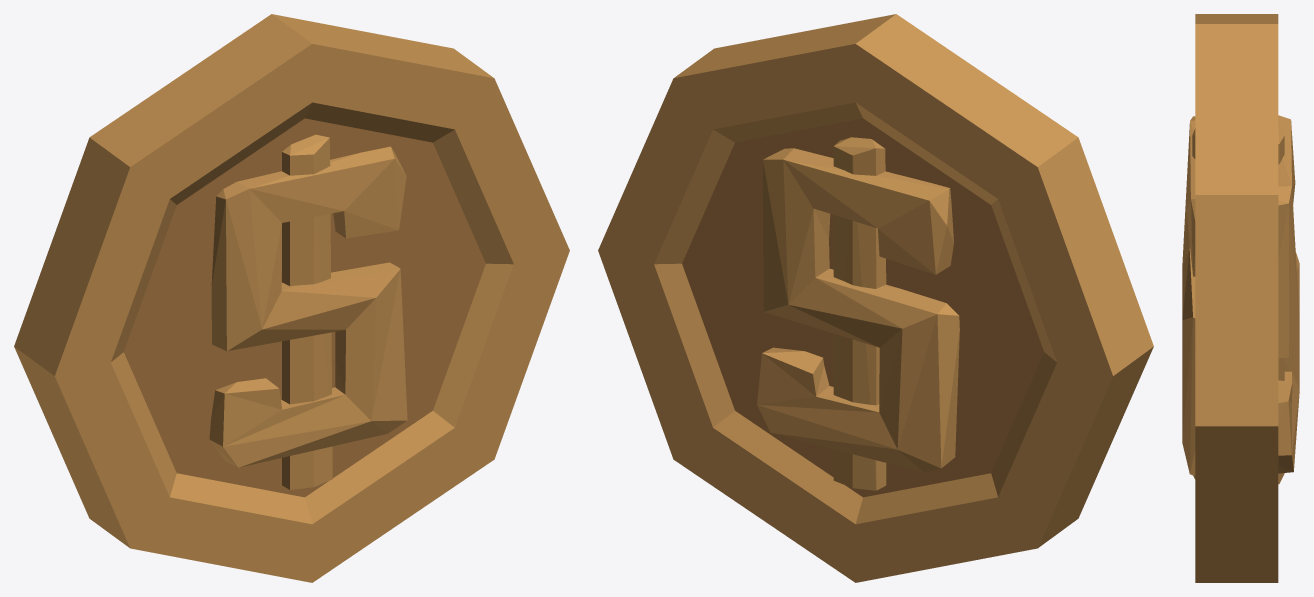
The model's file is SM_Icon_Coin_03.fbx.
The picture shows the model from 3 angles, left to right: view 1: azimuth 30°, elevation 25°; view 2: azimuth 150°, elevation 25°; view 3: azimuth 270°, elevation 25°; orthographic projection.
Visible parts, largest first — view 1: SM_Icon_Coin_03; view 2: SM_Icon_Coin_03; view 3: SM_Icon_Coin_03.
Boxes of the visible parts, <box> form: SM_Icon_Coin_03: <box>14,14,569,582</box>; SM_Icon_Coin_03: <box>598,14,1153,582</box>; SM_Icon_Coin_03: <box>1182,14,1299,582</box>.
Bounding box in the file's own units: 58.82 × 58.82 × 11.42.
